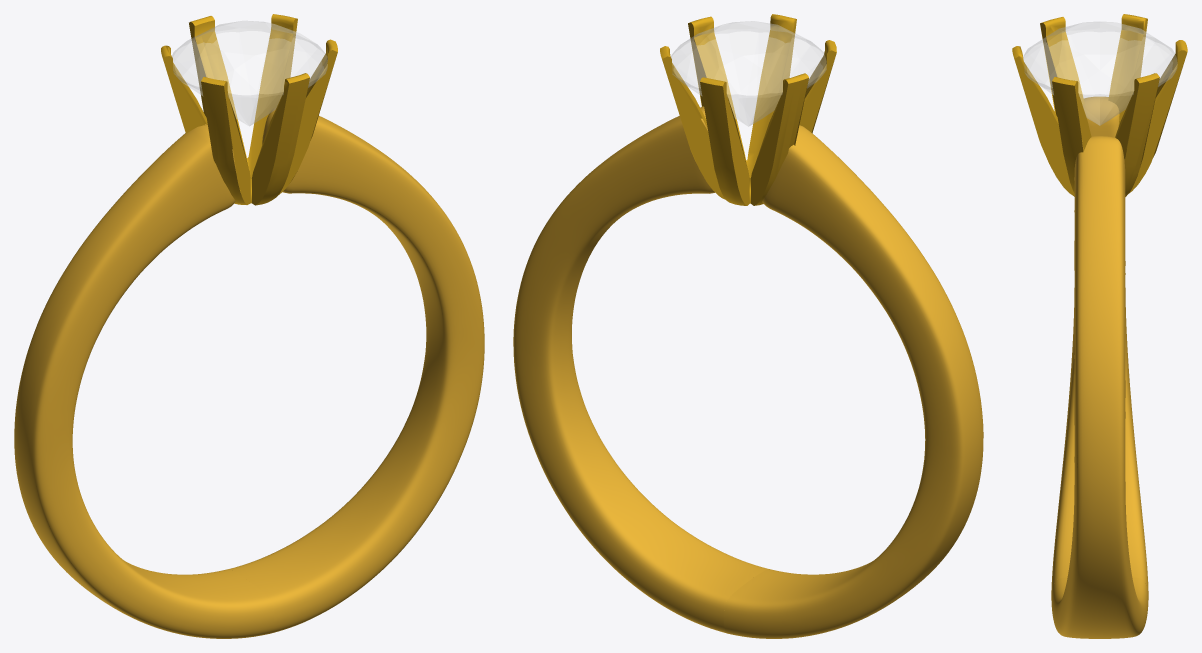
The model's file is ring.glb.
The picture shows the model from 3 angles, left to right: view 1: azimuth 30°, elevation 25°; view 2: azimuth 150°, elevation 25°; view 3: azimuth 270°, elevation 25°; orthographic projection.
Visible parts, largest first — view 1: Oggetto_17_6, Oggetto_18_5, corona_7, Round_21; view 2: Oggetto_17_6, Oggetto_18_5, corona_7, Round_21; view 3: Oggetto_18_5, corona_7, Round_21, Oggetto_17_6.
Part boxes in pixels (bbox=[...]): Oggetto_17_6: bbox=[14, 124, 273, 638]; Oggetto_18_5: bbox=[230, 107, 484, 633]; corona_7: bbox=[161, 14, 337, 205]; Round_21: bbox=[172, 21, 327, 126]; Oggetto_17_6: bbox=[724, 125, 983, 638]; Oggetto_18_5: bbox=[513, 106, 767, 633]; corona_7: bbox=[660, 14, 836, 205]; Round_21: bbox=[671, 21, 826, 126]; Oggetto_18_5: bbox=[1051, 136, 1148, 638]; corona_7: bbox=[1012, 14, 1187, 196]; Round_21: bbox=[1023, 22, 1177, 125]; Oggetto_17_6: bbox=[1051, 96, 1148, 592].
Size of the model in its own units: 2.29 by 2.81 by 0.7724.
